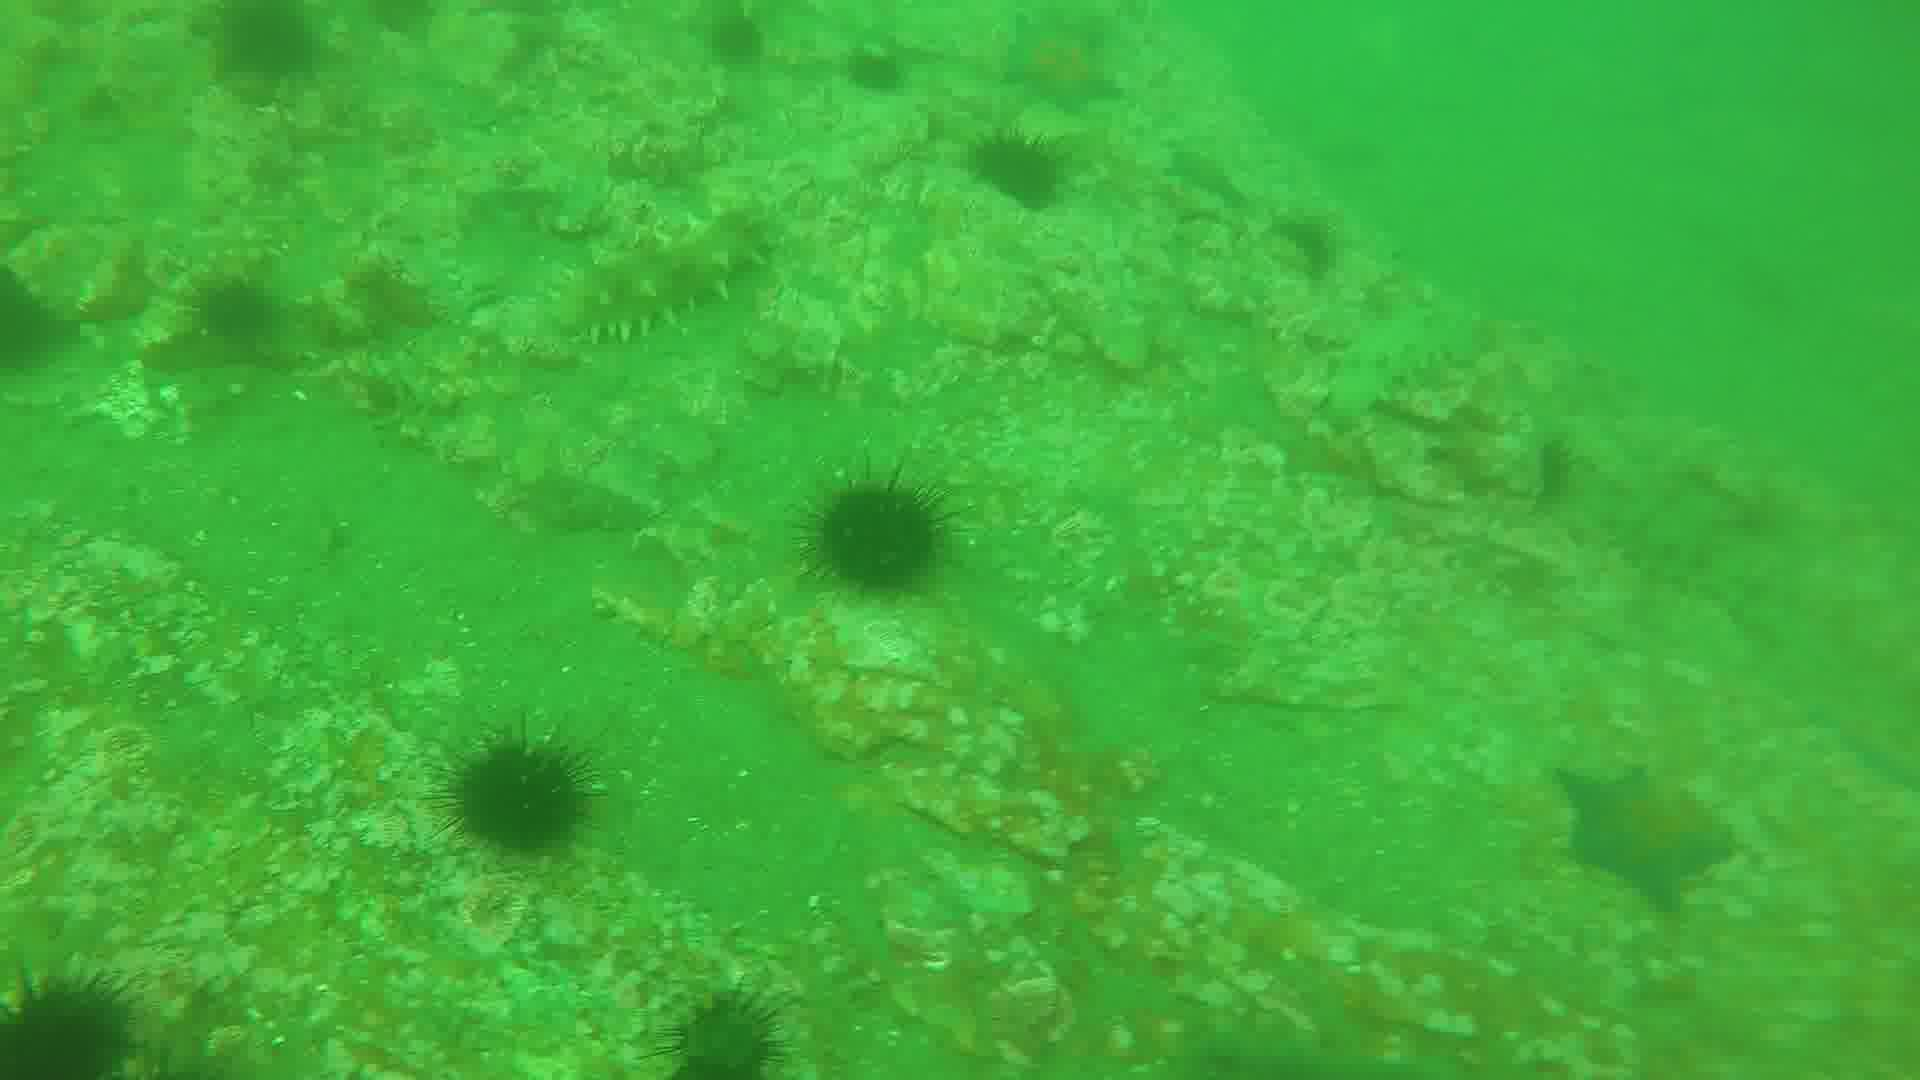echinus: (448, 738, 591, 858), (815, 475, 947, 600), (1, 981, 149, 1080), (666, 989, 793, 1080), (199, 9, 322, 88), (965, 135, 1065, 218), (189, 276, 284, 345), (704, 13, 779, 82)
holothurian: (568, 208, 777, 347)
starfish: (1561, 762, 1730, 901), (997, 18, 1131, 116)
